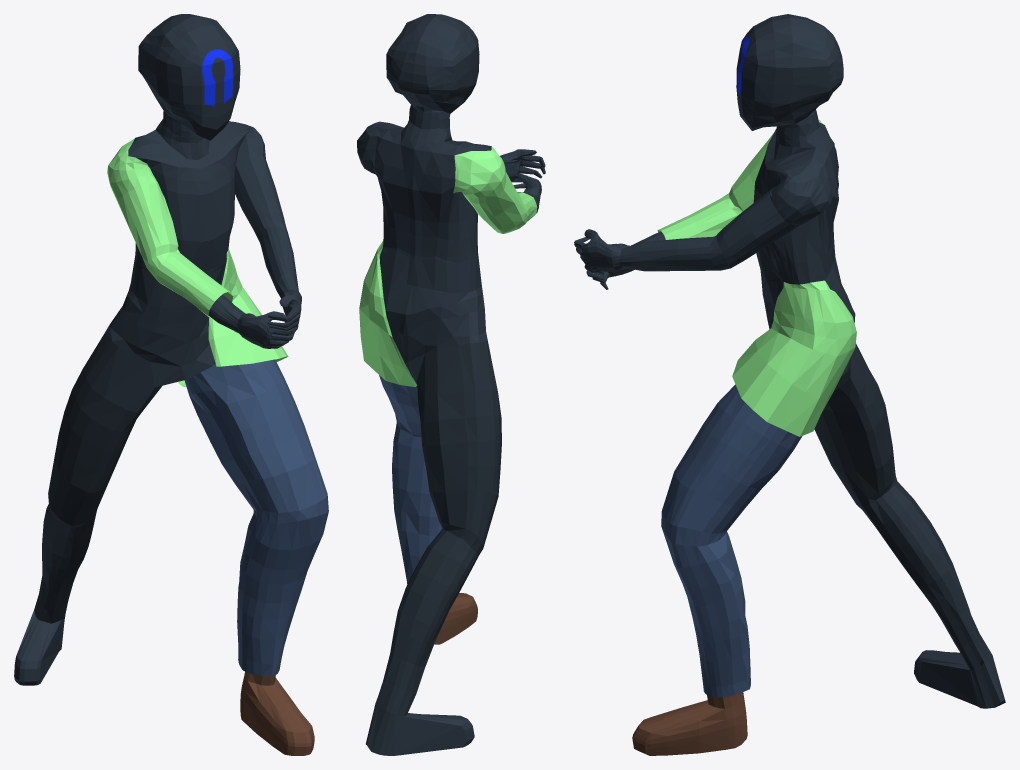
Rendered from Mar_WF_000031.obj.
3 views of the same model, side by side, from view 1: azimuth 30°, elevation 25°; view 2: azimuth 150°, elevation 25°; view 3: azimuth 270°, elevation 25° (orthographic). The views are drawn at different scales.
Visible parts, largest first — view 1: Cube.000_Cube.001; view 2: Cube.000_Cube.001; view 3: Cube.000_Cube.001.
Part boxes in pixels (x1,y1,x2,y2): Cube.000_Cube.001: (14, 14, 328, 755); Cube.000_Cube.001: (357, 14, 545, 755); Cube.000_Cube.001: (574, 14, 1005, 755).
Bounding box in the file's own units: 1.09 × 3.73 × 2.05.
